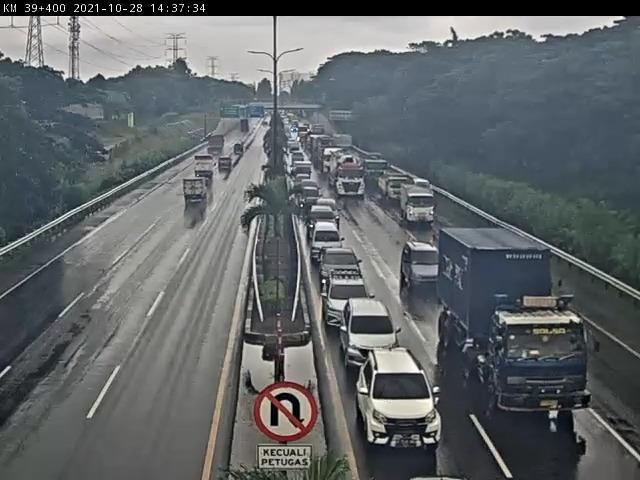car: (444, 233, 615, 418), (360, 346, 444, 450), (344, 292, 407, 370), (398, 234, 449, 297), (325, 267, 369, 336), (325, 242, 370, 290), (314, 216, 345, 260), (383, 172, 412, 206), (310, 204, 338, 235), (302, 183, 325, 216), (315, 194, 341, 221), (295, 160, 316, 191), (291, 150, 308, 173), (219, 154, 235, 178), (231, 139, 248, 157)
truck: (335, 163, 369, 205), (405, 187, 438, 228), (365, 156, 391, 196), (194, 152, 221, 180), (182, 178, 212, 202), (208, 132, 226, 156)
